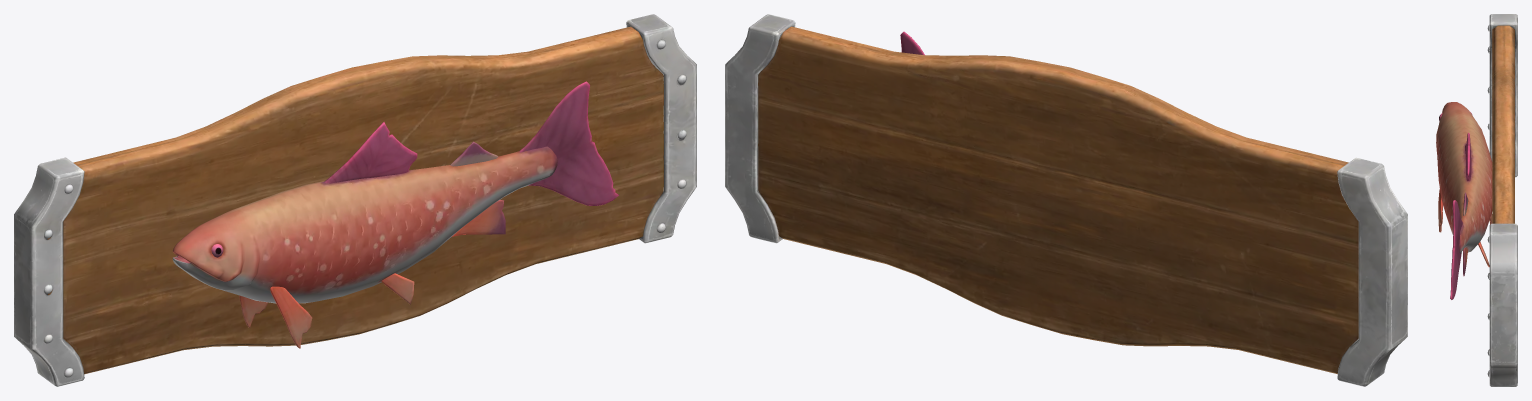
The picture shows the model from 3 angles, left to right: view 1: azimuth 30°, elevation 25°; view 2: azimuth 150°, elevation 25°; view 3: azimuth 270°, elevation 25°; orthographic projection. The views are drawn at different scales.
Visible parts, largest first — view 1: SM_Trophy_Plaque_Salmon_01_LOD0; view 2: SM_Trophy_Plaque_Salmon_01_LOD0; view 3: SM_Trophy_Plaque_Salmon_01_LOD0.
Part boxes in pixels (box(x1,y1,x2,y2)): SM_Trophy_Plaque_Salmon_01_LOD0: box(14, 14, 696, 386); SM_Trophy_Plaque_Salmon_01_LOD0: box(725, 14, 1407, 386); SM_Trophy_Plaque_Salmon_01_LOD0: box(1436, 14, 1517, 386).
Size of the model in its own units: 1.48 by 0.5529 by 0.2148.
2 materials, 2 textured.
